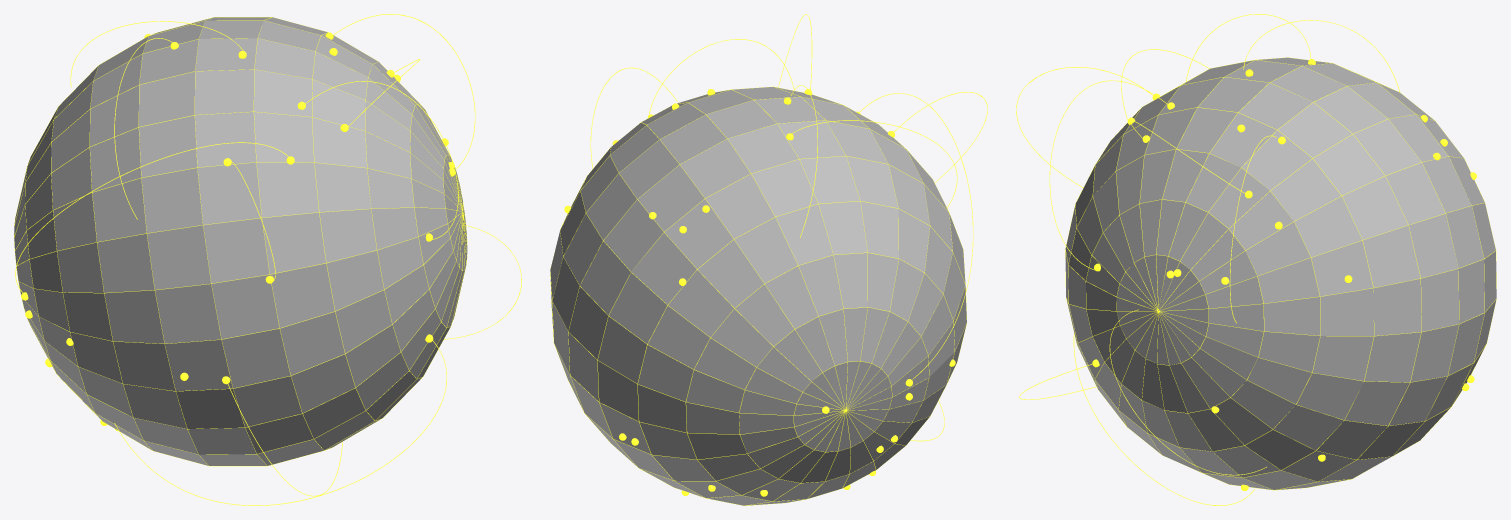
File: NAKA-Globe-Lines_optimized.glb
3 views of the same model, side by side, from view 1: azimuth 30°, elevation 25°; view 2: azimuth 150°, elevation 25°; view 3: azimuth 270°, elevation 25° (orthographic). The views are drawn at different scales.
Visible parts, largest first — view 1: Sphere.009; view 2: Sphere.009; view 3: Sphere.009.
Part boxes in pixels (x1,y1,x2,y2): Sphere.009: (14, 14, 521, 505); Sphere.009: (550, 14, 987, 505); Sphere.009: (1016, 14, 1496, 505).
Bounding box in the file's own units: 0.4567 × 0.4552 × 0.4647.
